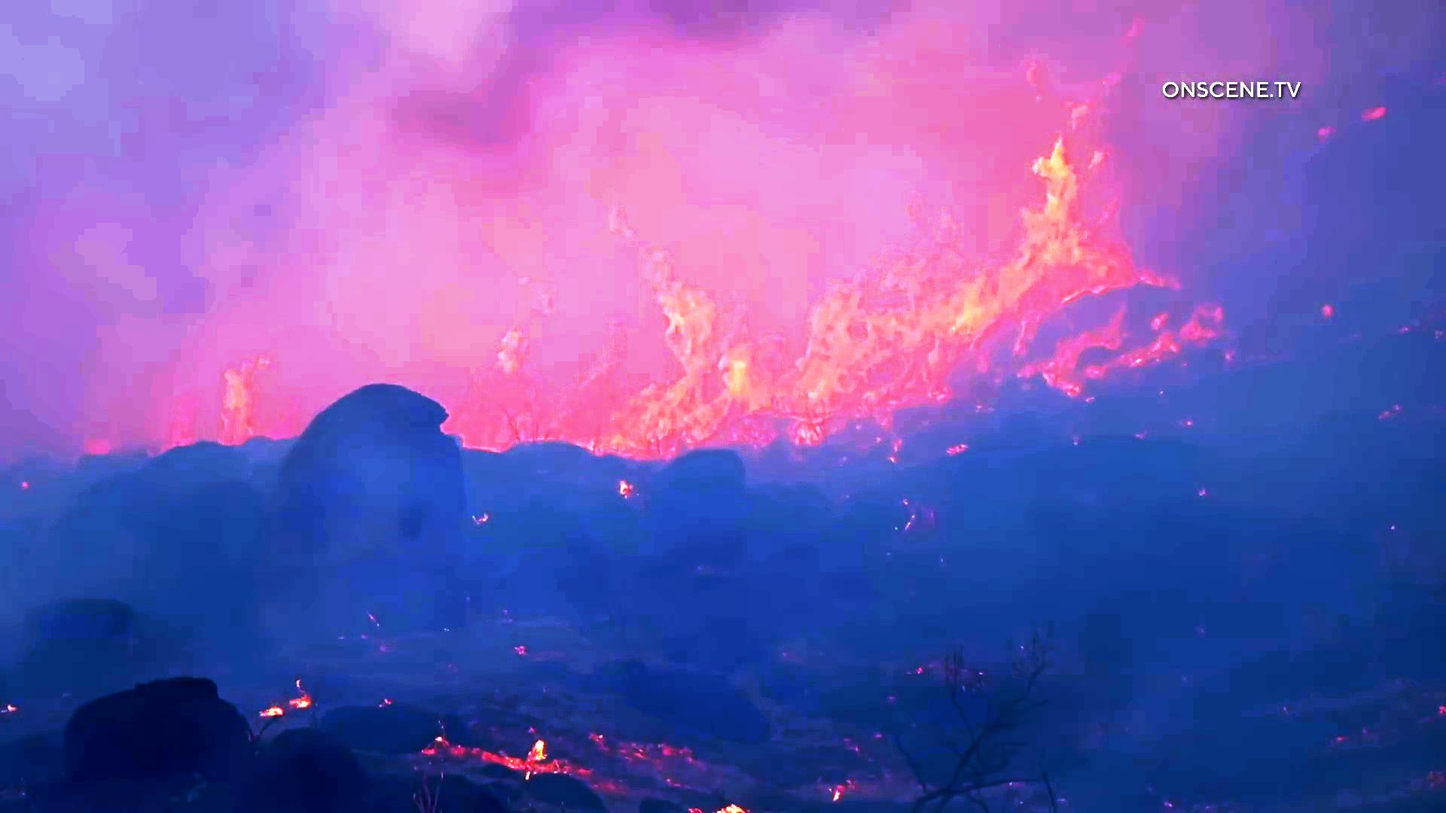fire: (468, 269, 720, 441), (1007, 79, 1111, 320), (996, 239, 996, 241)
